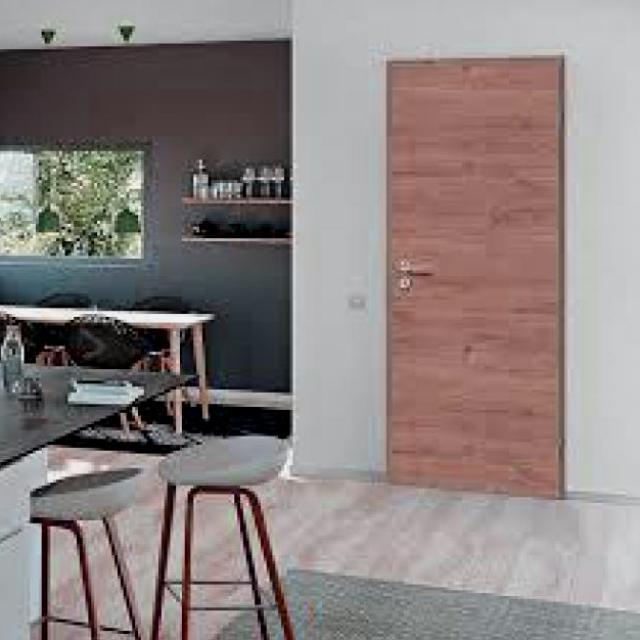Door: (384, 54, 564, 498)
